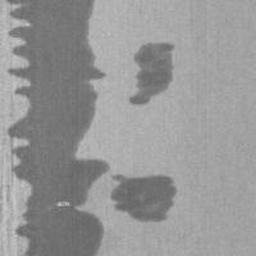Water spot: (5, 0, 179, 256), (128, 41, 177, 106)
